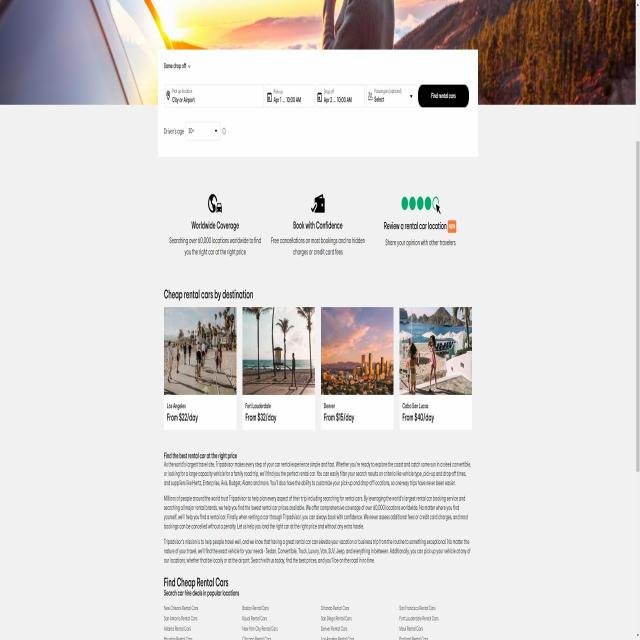button: (418, 83, 469, 108)
select: (366, 83, 417, 108), (186, 121, 220, 141)
